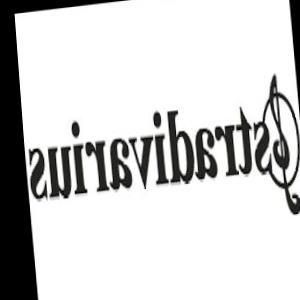stradivarius: (290, 21, 298, 96)
